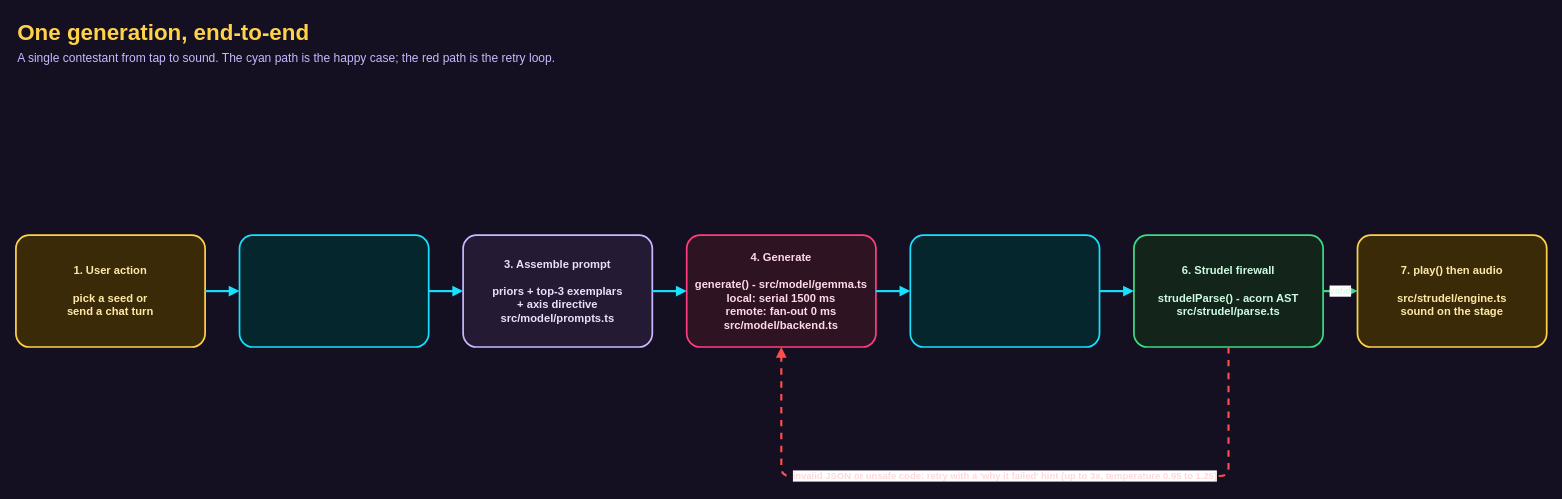
The diagram is 1562 pixels wide and 499 high, and some of its shapes have lost their labels. The centre of each missing label's shape, as x and y in pixels:
2. Retrieve taste getTopKSimilar(seed, 3) src/memory/taste.ts: [333,290]
5. Parse JSON (zod) safeParseVariation() src/remix/schema.ts: [1004,290]
